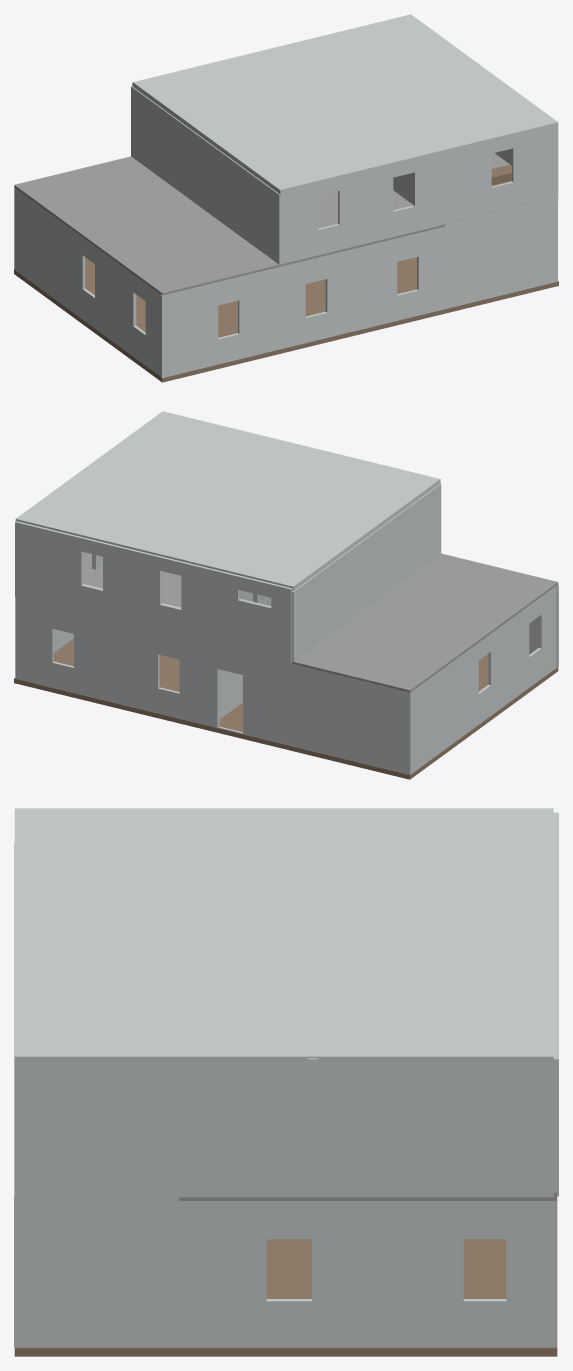
Rendered from Most_Current_House.fbx.
3 views of the same model, one above another, from view 1: azimuth 30°, elevation 25°; view 2: azimuth 150°, elevation 25°; view 3: azimuth 270°, elevation 25° (orthographic). The views are drawn at different scales.
Parts seen in each view (by area): view 1: ceiling1, wall3, floor2, wall7, wall2, wall6, floor1, int_wall3; view 2: ceiling1, wall1, wall5, floor2, wall2, wall6, floor1, int_wall1, wall3; view 3: ceiling1, wall4, wall8, floor1, wall5, floor2, int_wall5.
Boxes of the visible parts, left/top/right/bottom form: ceiling1: left=132, top=14, right=558, bottom=195; wall3: left=160, top=199, right=557, bottom=378; floor2: left=14, top=153, right=509, bottom=295; wall7: left=281, top=122, right=558, bottom=263; wall2: left=14, top=187, right=165, bottom=377; wall6: left=131, top=86, right=281, bottom=264; floor1: left=14, top=257, right=558, bottom=382; int_wall3: left=393, top=173, right=413, bottom=204; ceiling1: left=15, top=411, right=440, bottom=591; wall1: left=16, top=597, right=410, bottom=774; wall5: left=15, top=521, right=292, bottom=664; floor2: left=83, top=552, right=558, bottom=692; wall2: left=410, top=586, right=556, bottom=774; wall6: left=291, top=483, right=441, bottom=661; floor1: left=14, top=638, right=558, bottom=779; int_wall1: left=220, top=670, right=242, bottom=718; wall3: left=529, top=584, right=558, bottom=667; ceiling1: left=15, top=808, right=553, bottom=1067; wall4: left=15, top=1197, right=556, bottom=1347; wall8: left=15, top=1055, right=553, bottom=1197; floor1: left=14, top=1197, right=557, bottom=1356; wall5: left=553, top=812, right=558, bottom=1196; floor2: left=179, top=1192, right=556, bottom=1200; int_wall5: left=308, top=1058, right=317, bottom=1193.
Bounding box in the file's own units: 15.03 × 5.92 × 9.76.
